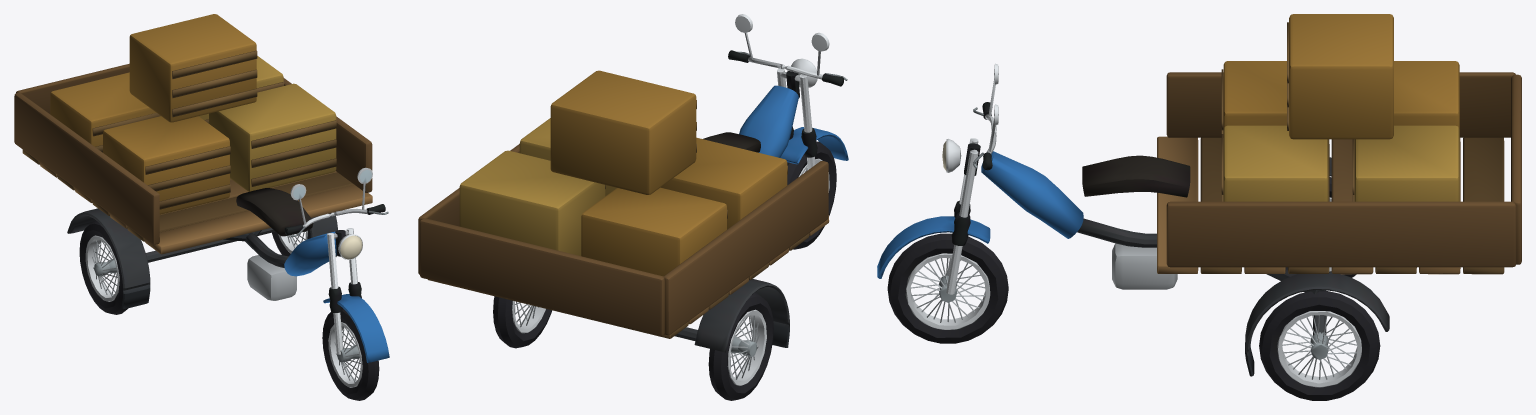
The model's file is veh-baGac.glb.
3 views of the same model, side by side, from view 1: azimuth 30°, elevation 25°; view 2: azimuth 150°, elevation 25°; view 3: azimuth 270°, elevation 25° (orthographic). The views are drawn at different scales.
Parts seen in each view (by area): view 1: body, wheel0, wheel2, wheel1; view 2: body, wheel2, wheel1, wheel0; view 3: body, wheel1, wheel0.
Boxes of the visible parts, x1,y1,x2,y2 form: body: (14, 14, 389, 362); wheel0: (322, 308, 379, 400); wheel2: (79, 220, 127, 314); wheel1: (272, 229, 310, 256); body: (418, 14, 848, 352); wheel2: (708, 293, 773, 400); wheel1: (493, 296, 552, 348); wheel0: (787, 141, 836, 249); body: (877, 14, 1521, 376); wheel1: (1259, 290, 1380, 400); wheel0: (887, 233, 1008, 343).
Size of the model in its own units: 1.45 by 1.54 by 2.95.
